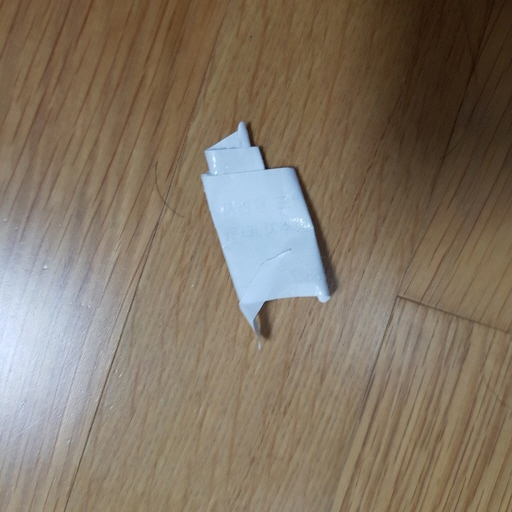Paper_3: (183, 120, 359, 333)
